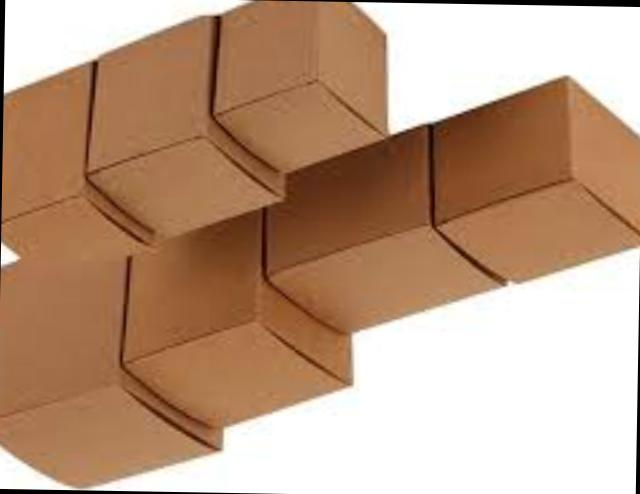cardboard paper: (124, 210, 348, 428), (0, 263, 215, 490), (267, 130, 494, 330), (87, 19, 281, 236), (432, 79, 640, 280), (215, 0, 385, 171), (0, 65, 148, 256)
